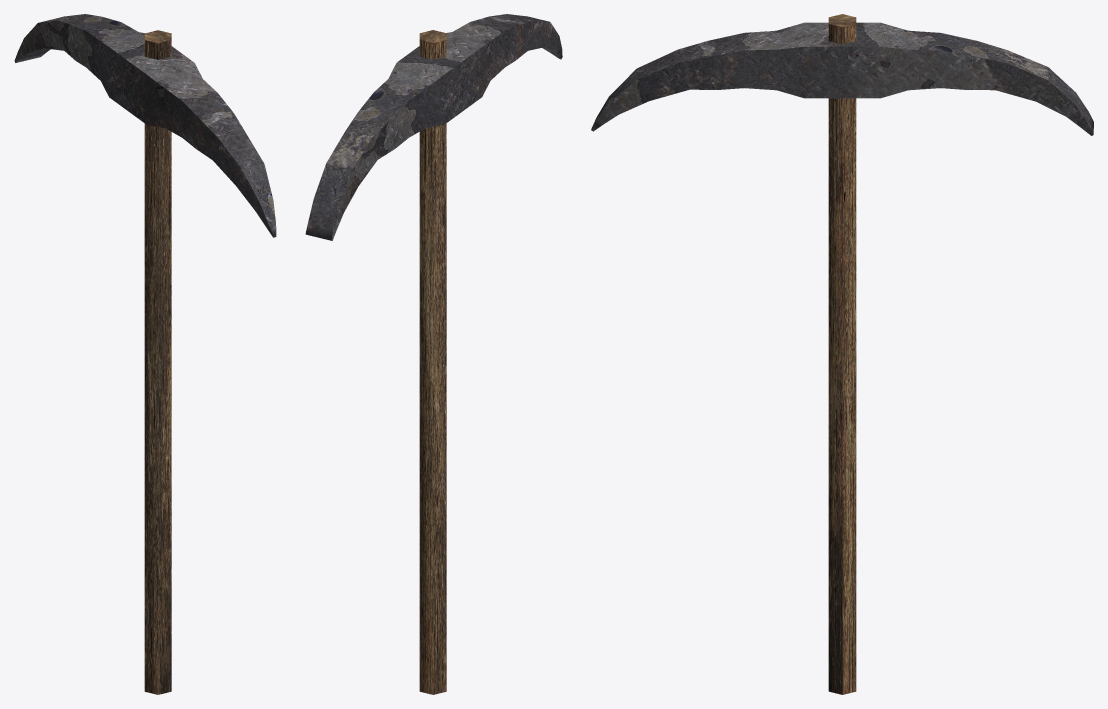
Rendered from pick.fbx.
3 views of the same model, side by side, from view 1: azimuth 30°, elevation 25°; view 2: azimuth 150°, elevation 25°; view 3: azimuth 270°, elevation 25° (orthographic). The views are drawn at different scales.
Visible parts, largest first — view 1: handle, metal part; view 2: metal part, handle; view 3: metal part, handle.
Part boxes in pixels (x1,y1,x2,y2): handle: [144, 30, 171, 694]; metal part: [14, 14, 276, 237]; metal part: [305, 14, 562, 240]; handle: [419, 30, 446, 694]; metal part: [591, 22, 1093, 135]; handle: [828, 14, 856, 694].
Bounding box in the file's own units: 34.31 × 445 × 304.
2 materials, 2 textured.
